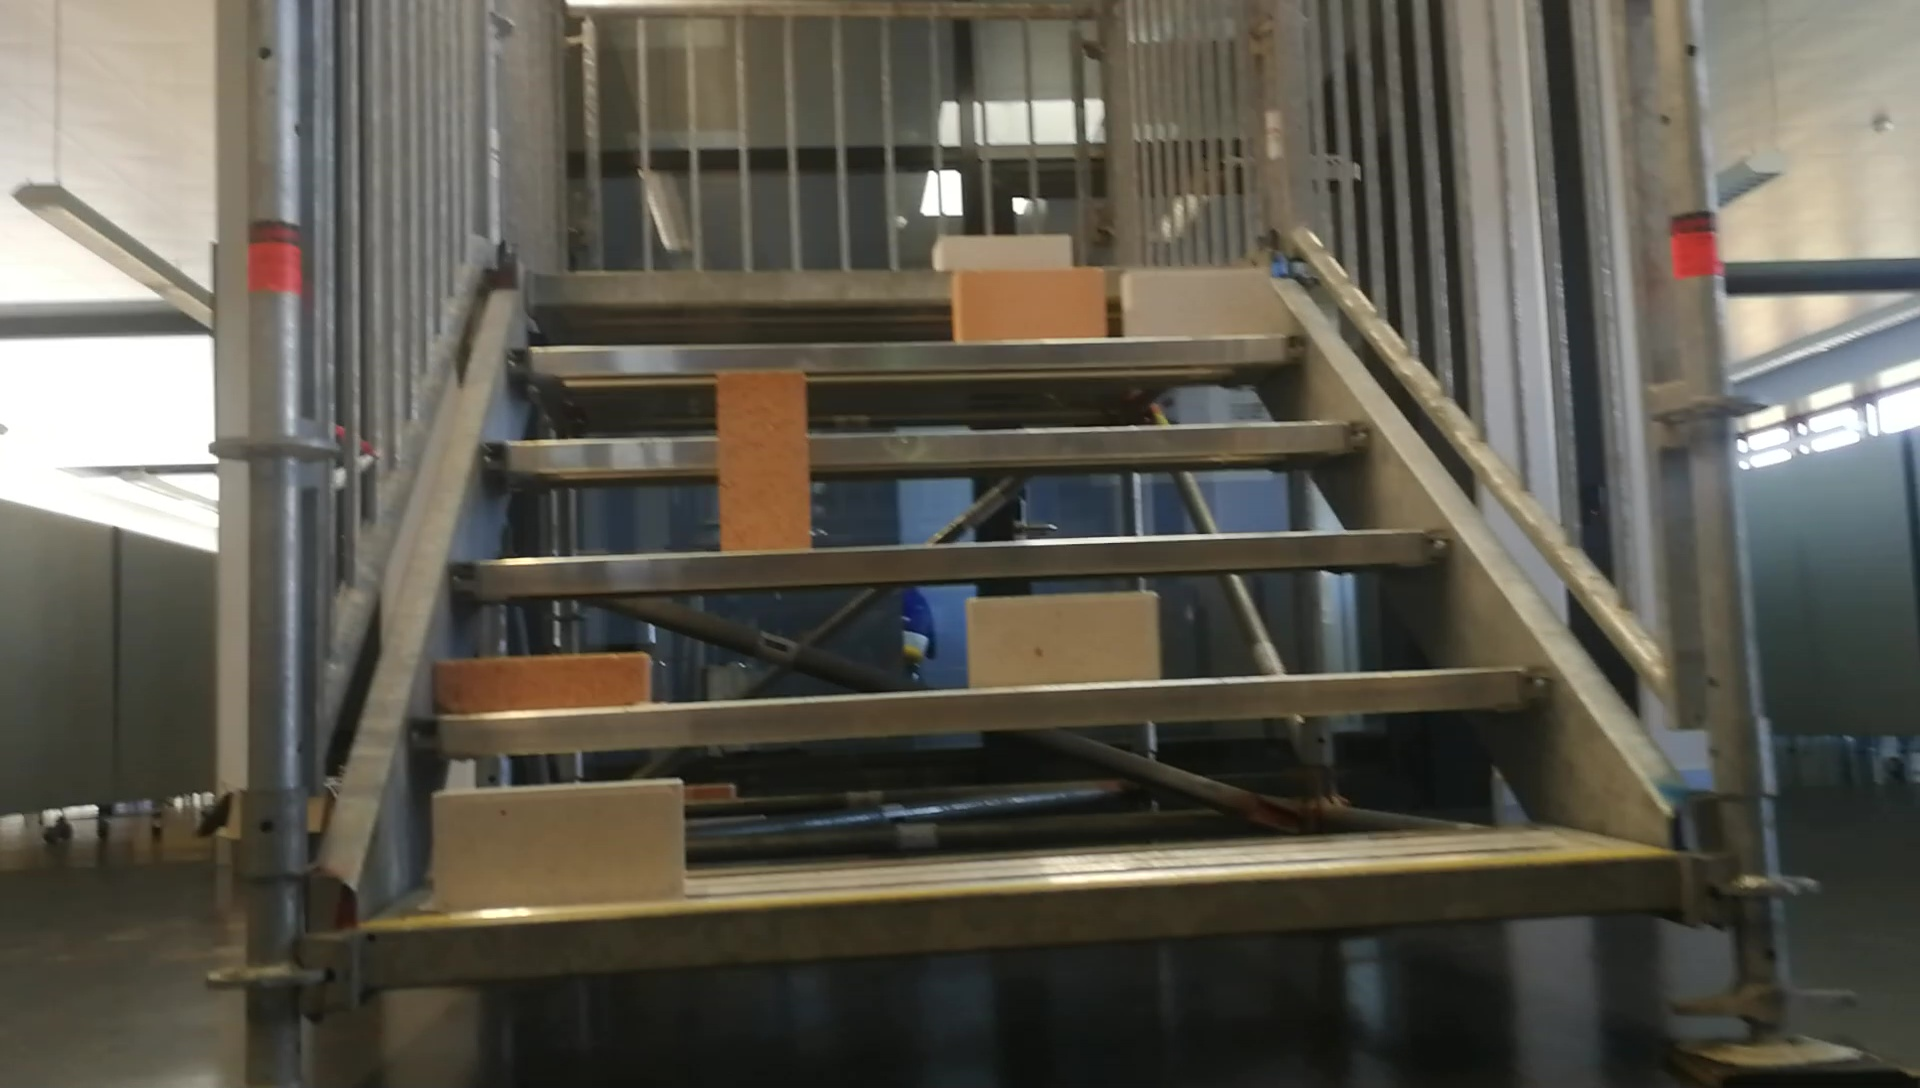brick: (433, 779, 683, 907), (971, 593, 1153, 687), (720, 367, 807, 550), (435, 650, 647, 712), (955, 268, 1102, 338), (1124, 270, 1265, 332), (935, 237, 1068, 270)
edge: (368, 853, 1685, 985), (411, 667, 1548, 753), (450, 525, 1456, 592), (480, 419, 1371, 468), (505, 332, 1308, 375)
steps: (367, 223, 1708, 998)
